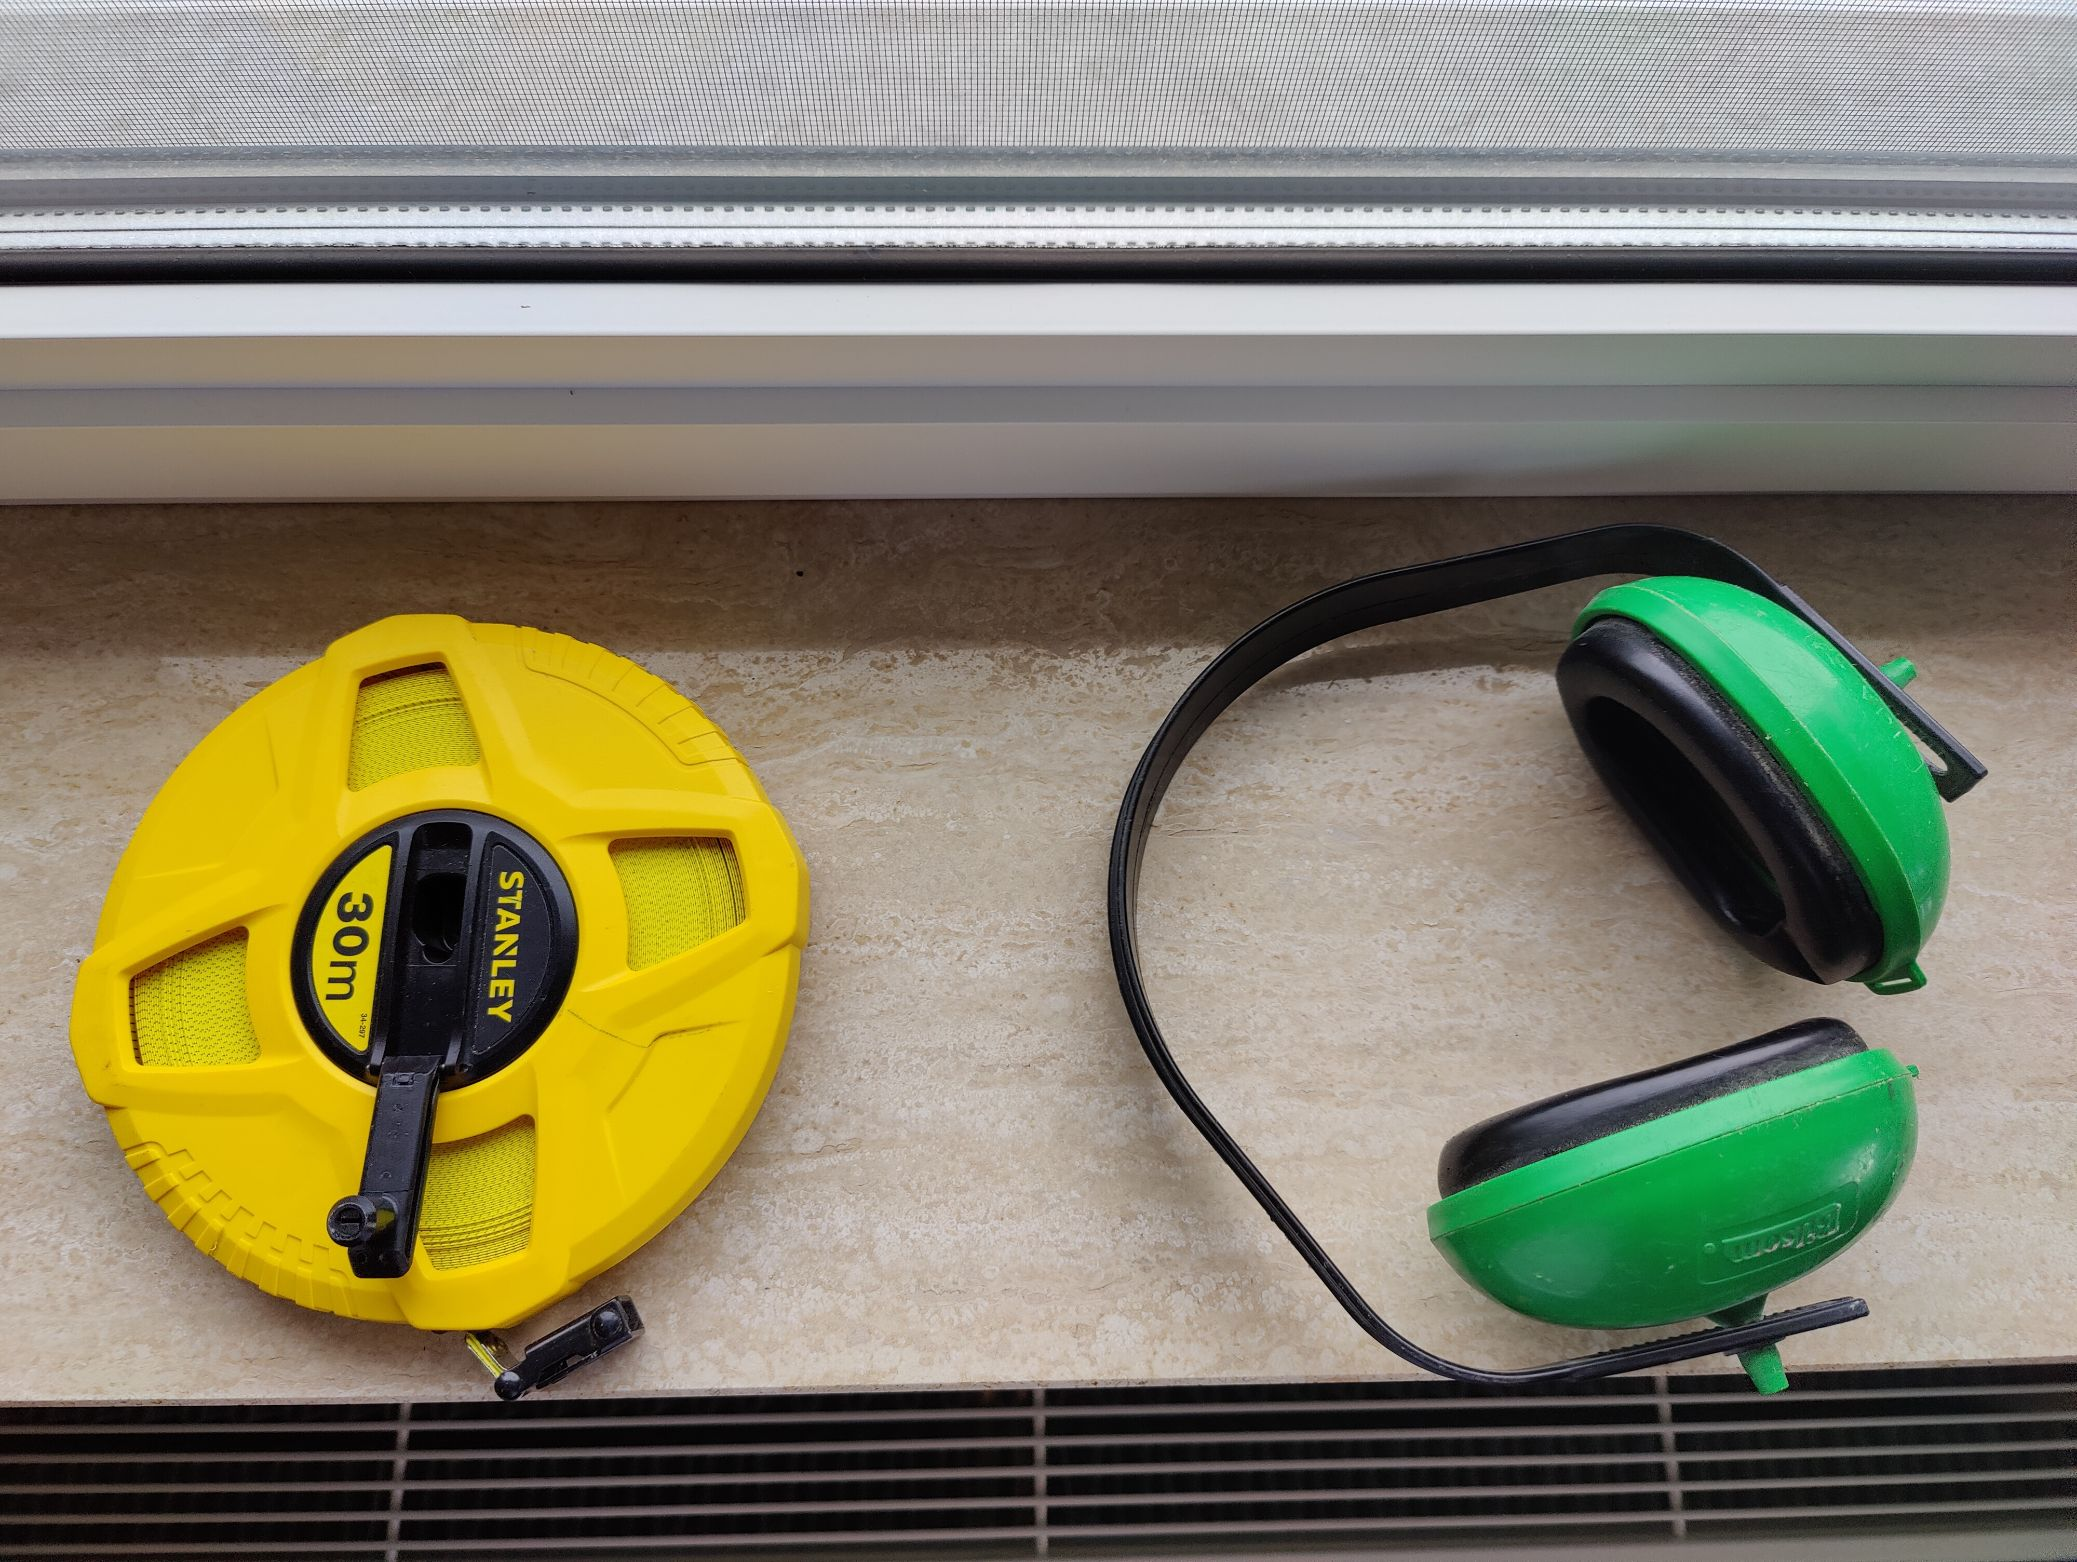headphones: (1111, 522, 1992, 1390)
tapemeasure: (71, 589, 810, 1395)
